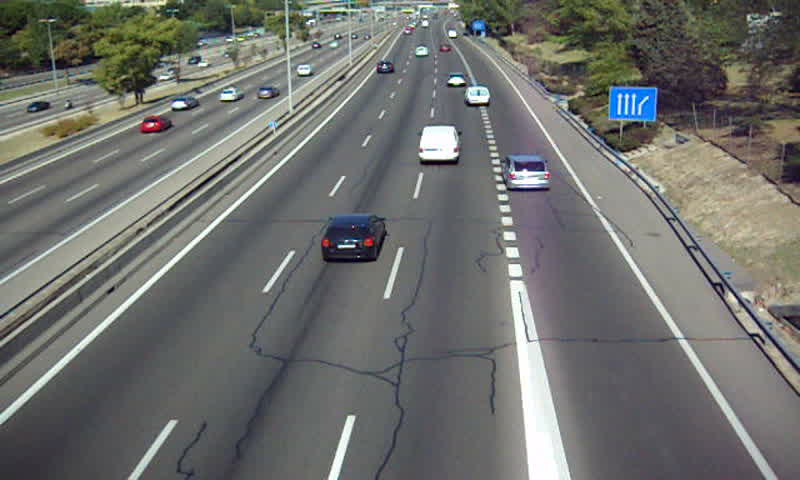car: (322, 215, 384, 263), (499, 154, 550, 190), (448, 72, 467, 88), (376, 60, 394, 75), (412, 44, 431, 57)
van: (419, 125, 460, 163), (463, 86, 492, 106)
